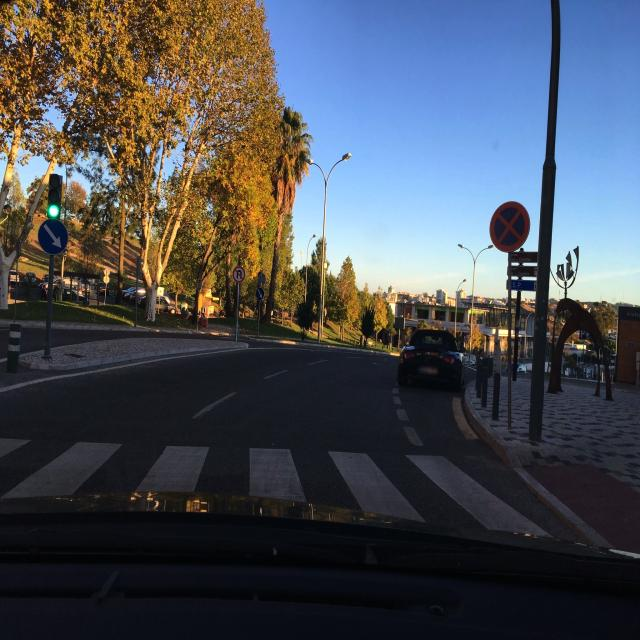car: (397, 328, 466, 391)
